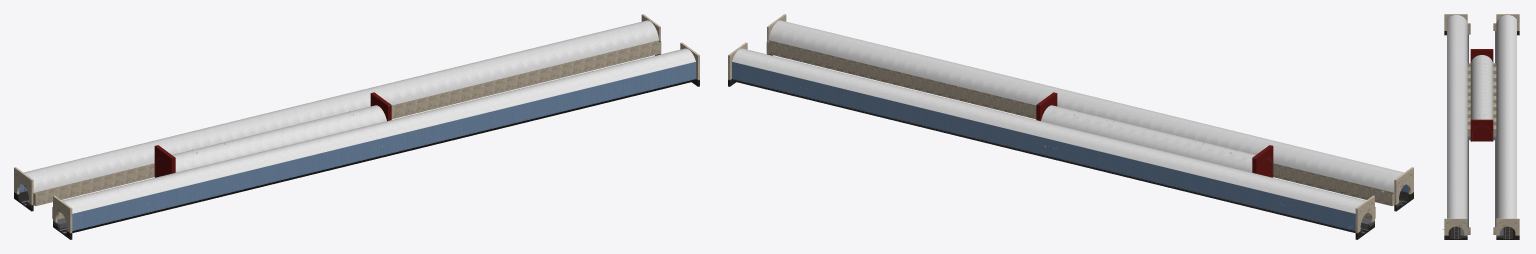
Rendered from Yugo-Zapadnaya 1.fbx.
The picture shows the model from 3 angles, left to right: view 1: azimuth 30°, elevation 25°; view 2: azimuth 150°, elevation 25°; view 3: azimuth 270°, elevation 25°; orthographic projection. The views are drawn at different scales.
Visible parts, largest first — view 1: platform side wall, platform joint.010, platform center part roof.007, platform side front wall.001|platform d side front wall|Dupl, platform side front wall.003|platform d side front wall|Dupl, station hermetic door|station deep hermetic wall|Dupli|; view 2: platform side wall, platform joint.010, platform center part roof.007, platform side front wall.003|platform d side front wall|Dupl, platform side front wall.001|platform d side front wall|Dupl, station hermetic door|station deep hermetic wall|Dupli|; view 3: platform side wall, platform center part roof.007, platform joint.010, platform, platform side front wall.002|platform d side front wall|Dupl, platform side front wall.004|platform d side front wall|Dupl, station hermetic door.002|station deep hermetic door|Dupli|2, station hermetic door.002|station deep hermetic wall|Dupli|, platform tracks.022, station hermetic door|station deep hermetic wall|Dupli|, platform side front wall.001|platform d side front wall|Dupl, platform side front wall.003|platform d side front wall|Dupl.
Boxes of the visible parts, left/top/right/bottom form: platform side wall: left=19, top=20, right=695, bottom=232; platform joint.010: left=33, top=40, right=661, bottom=219; platform center part roof.007: left=172, top=105, right=386, bottom=172; platform side front wall.001|platform d side front wall|Dupl: left=14, top=167, right=33, bottom=211; platform side front wall.003|platform d side front wall|Dupl: left=53, top=195, right=72, bottom=239; station hermetic door|station deep hermetic wall|Dupli|: left=154, top=145, right=175, bottom=177; platform side wall: left=732, top=20, right=1408, bottom=232; platform joint.010: left=766, top=40, right=1394, bottom=219; platform center part roof.007: left=1041, top=105, right=1255, bottom=172; platform side front wall.003|platform d side front wall|Dupl: left=1394, top=167, right=1413, bottom=211; platform side front wall.001|platform d side front wall|Dupl: left=1355, top=195, right=1374, bottom=239; station hermetic door|station deep hermetic wall|Dupli|: left=1252, top=145, right=1273, bottom=177; platform side wall: left=1447, top=15, right=1516, bottom=237; platform center part roof.007: left=1470, top=55, right=1493, bottom=119; platform joint.010: left=1467, top=23, right=1496, bottom=234; platform: left=1460, top=31, right=1503, bottom=234; platform side front wall.002|platform d side front wall|Dupl: left=1496, top=218, right=1519, bottom=239; platform side front wall.004|platform d side front wall|Dupl: left=1444, top=218, right=1467, bottom=239; station hermetic door.002|station deep hermetic door|Dupli|2: left=1472, top=125, right=1491, bottom=141; station hermetic door.002|station deep hermetic wall|Dupli|: left=1470, top=119, right=1493, bottom=141; platform tracks.022: left=1451, top=226, right=1512, bottom=238; station hermetic door|station deep hermetic wall|Dupli|: left=1470, top=49, right=1493, bottom=62; platform side front wall.001|platform d side front wall|Dupl: left=1496, top=14, right=1519, bottom=35; platform side front wall.003|platform d side front wall|Dupl: left=1444, top=14, right=1467, bottom=35.
Size of the model in its own units: 2759 by 16895 by 965.
